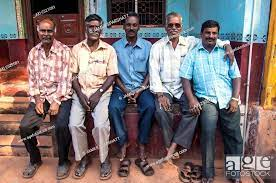men: (31, 11, 62, 48), (198, 17, 225, 56), (79, 13, 108, 46), (118, 10, 147, 43), (162, 10, 191, 42)
